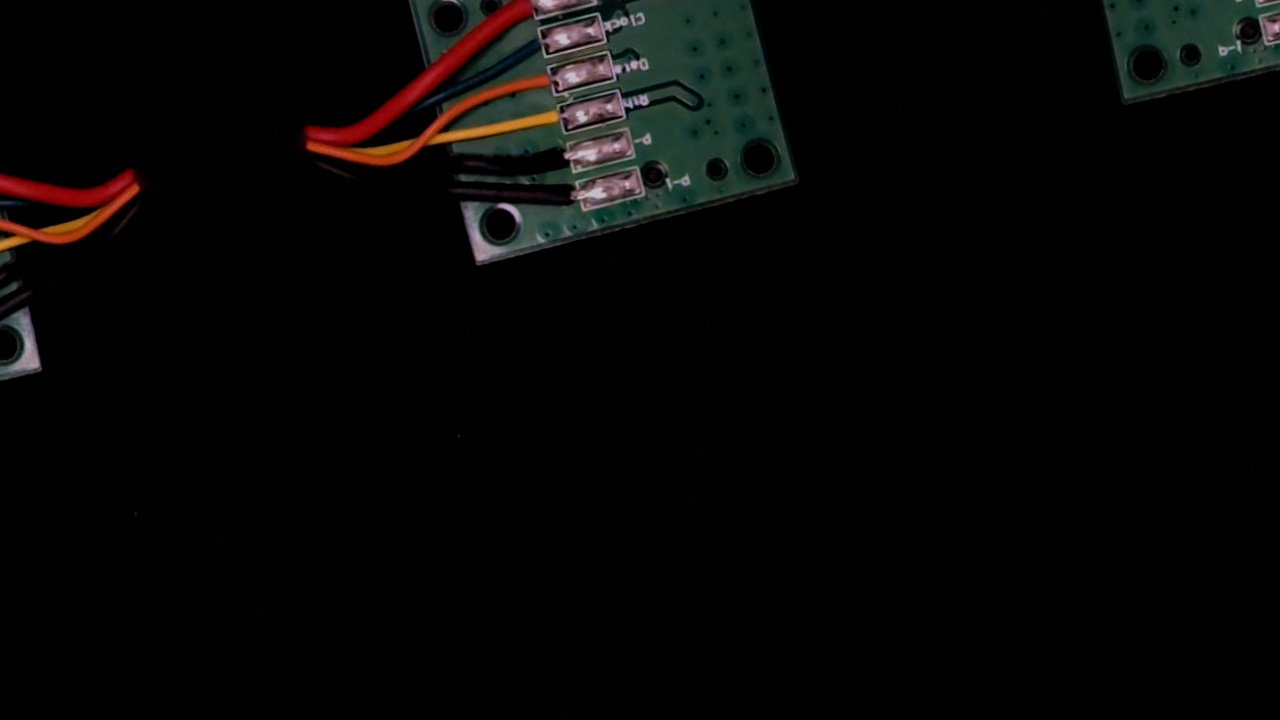Black: (519, 138, 591, 183)
Black1: (527, 178, 600, 227)
Green: (498, 21, 567, 67)
Orange: (506, 60, 574, 104)
Red: (481, 0, 557, 32)
Yellow: (508, 101, 582, 144)
